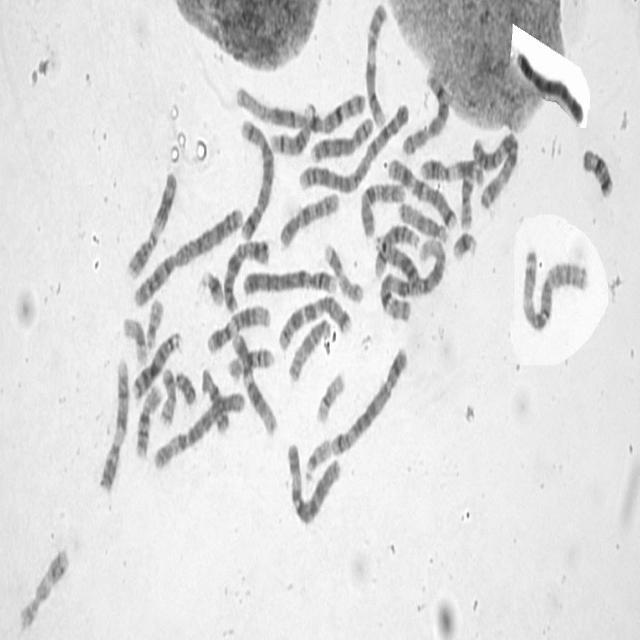A1: (232, 76, 368, 134), (376, 229, 448, 324)
A2: (130, 198, 245, 310), (296, 93, 412, 196)
A3: (518, 240, 590, 334), (469, 124, 520, 211)
B4: (512, 41, 586, 127), (239, 260, 338, 298)
B5: (328, 339, 410, 458), (235, 110, 276, 242)
C10: (276, 183, 342, 252), (357, 172, 408, 238)
C11: (122, 161, 178, 282), (416, 150, 486, 187)
C12: (228, 323, 278, 438), (203, 296, 272, 356)
C6: (149, 383, 247, 473), (282, 434, 342, 526)
C7: (384, 151, 458, 230), (274, 285, 354, 353)
C8: (400, 74, 452, 156), (307, 107, 375, 163)
C9: (95, 350, 131, 493), (361, 0, 390, 130)
D13: (128, 324, 183, 403), (371, 225, 421, 290)
D14: (371, 219, 422, 284), (265, 97, 317, 156)
D15: (284, 310, 332, 383), (394, 195, 449, 244)
E16: (132, 376, 164, 459), (225, 340, 276, 382)
E17: (14, 538, 71, 633), (320, 236, 365, 306)
E18: (197, 359, 230, 436), (578, 138, 616, 200)
F19: (313, 364, 347, 426), (119, 308, 149, 366)
F20: (156, 360, 177, 428), (457, 162, 477, 230)
G21: (196, 260, 226, 309), (449, 223, 479, 263)
G22: (301, 430, 332, 484), (143, 290, 165, 351)
X: (220, 230, 271, 315)
Y: (171, 362, 198, 407)
